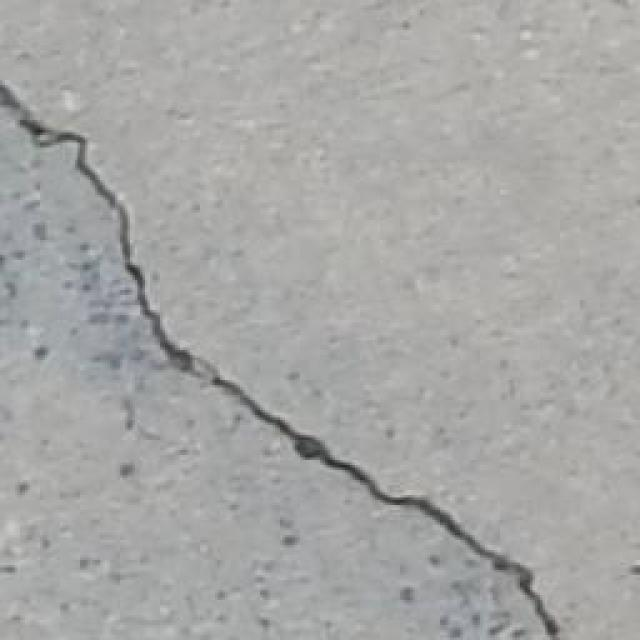concrete-crack: (0, 80, 562, 640)
